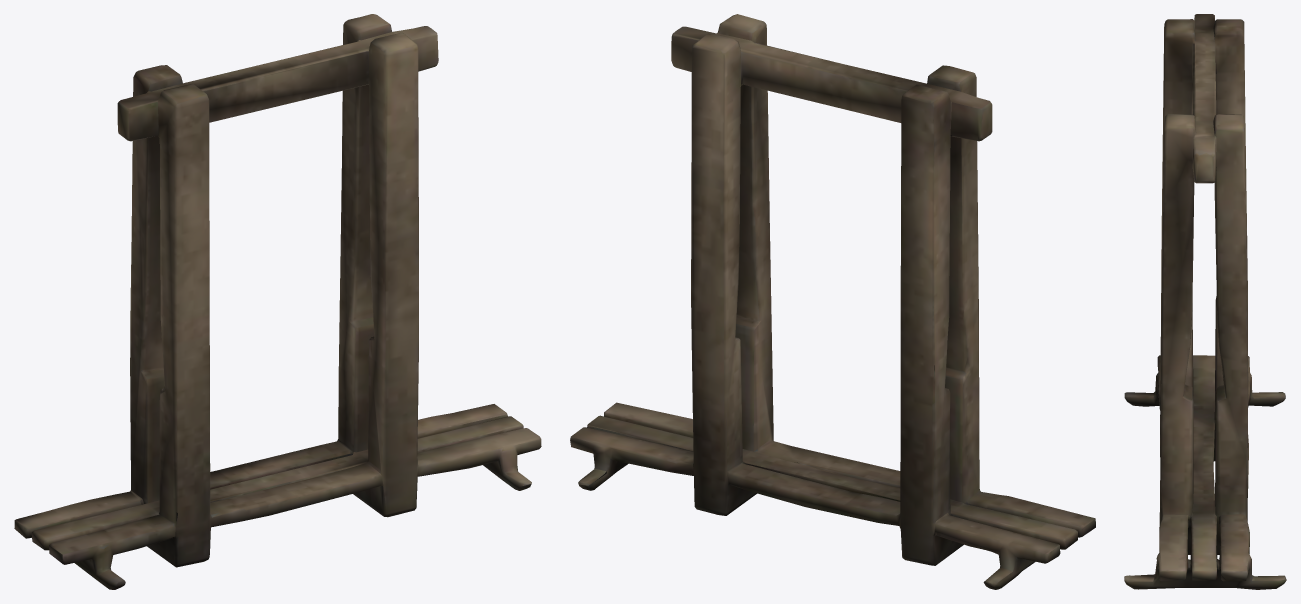
Rendered from ornate-wood-barricade-v001.glb.
The picture shows the model from 3 angles, left to right: view 1: azimuth 30°, elevation 25°; view 2: azimuth 150°, elevation 25°; view 3: azimuth 270°, elevation 25°; orthographic projection. The views are drawn at different scales.
Visible parts, largest first — view 1: ornate-wood-barricade; view 2: ornate-wood-barricade; view 3: ornate-wood-barricade.
Part boxes in pixels (x1,y1,x2,y2): ornate-wood-barricade: (14, 14, 541, 589); ornate-wood-barricade: (570, 14, 1095, 589); ornate-wood-barricade: (1124, 14, 1286, 589).
Bounding box in the file's own units: 1.17 × 1.09 × 0.3713.
Materials: 1 (1 with a texture image).
